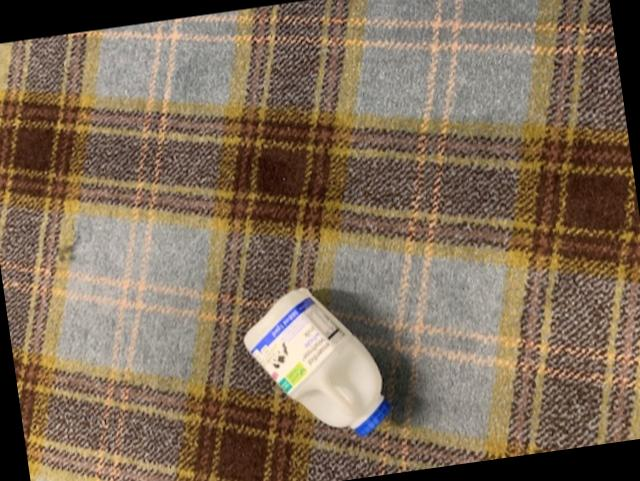plastic: (246, 289, 392, 435)
